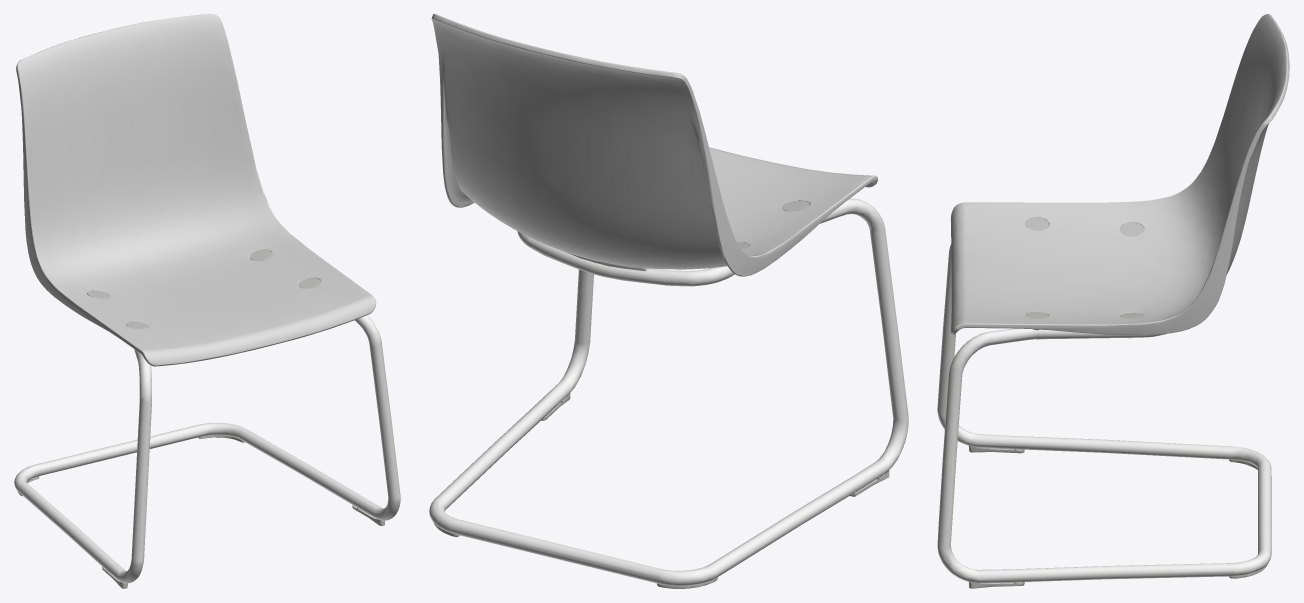
3 renders of one model, left to right at view 1: azimuth 30°, elevation 25°; view 2: azimuth 150°, elevation 25°; view 3: azimuth 270°, elevation 25°, orthographic. The views are drawn at different scales.
Visible parts, largest first — view 1: Mesh_0, Mesh_1; view 2: Mesh_0, Mesh_1; view 3: Mesh_0, Mesh_1.
Boxes of the visible parts, bbox=[...] form: Mesh_0: bbox=[16, 14, 376, 366]; Mesh_1: bbox=[14, 249, 400, 588]; Mesh_0: bbox=[431, 14, 877, 276]; Mesh_1: bbox=[429, 198, 908, 588]; Mesh_0: bbox=[950, 14, 1289, 334]; Mesh_1: bbox=[937, 217, 1271, 588].
Size of the model in its own units: 0.5477 by 0.8187 by 0.5735.
Materials: 2 (1 with a texture image).
